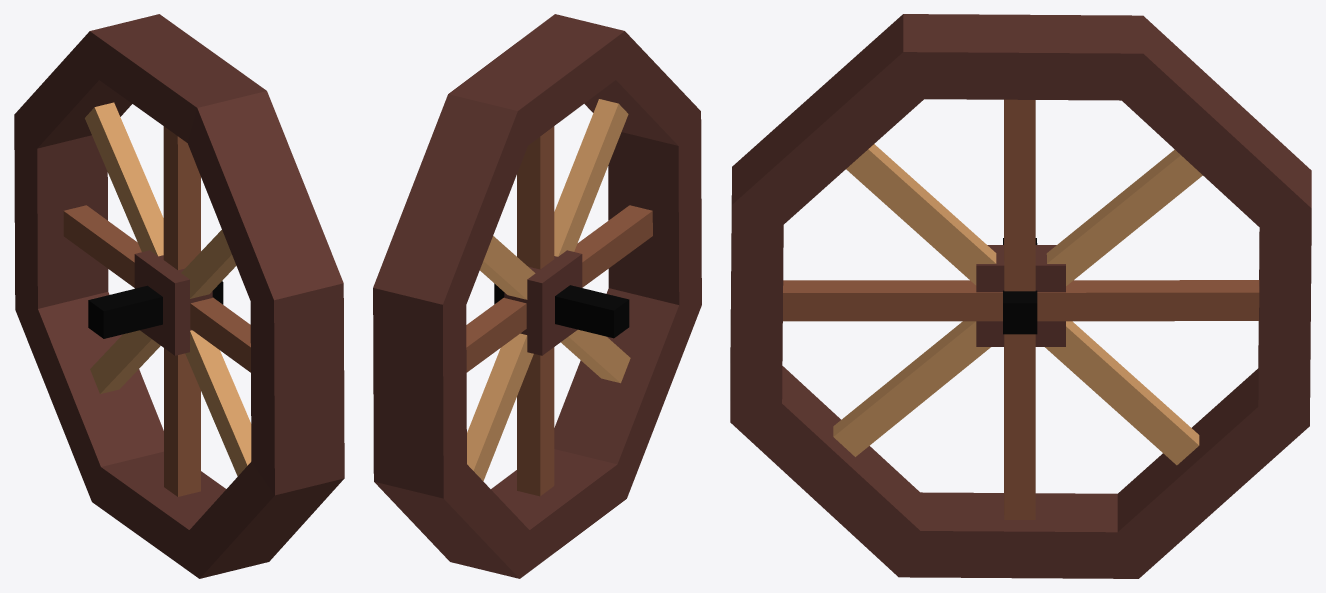
The model's file is wheel_right.fbx.
The picture shows the model from 3 angles, left to right: view 1: azimuth 30°, elevation 25°; view 2: azimuth 150°, elevation 25°; view 3: azimuth 270°, elevation 25°; orthographic projection. The views are drawn at different scales.
Parts seen in each view (by area): view 1: left wheel; view 2: left wheel; view 3: left wheel.
Part boxes in pixels (x1,y1,x2,y2): left wheel: (14,14,344,578); left wheel: (373,14,701,578); left wheel: (730,14,1311,578).
Size of the model in its own units: 39.27 by 148 by 148.
